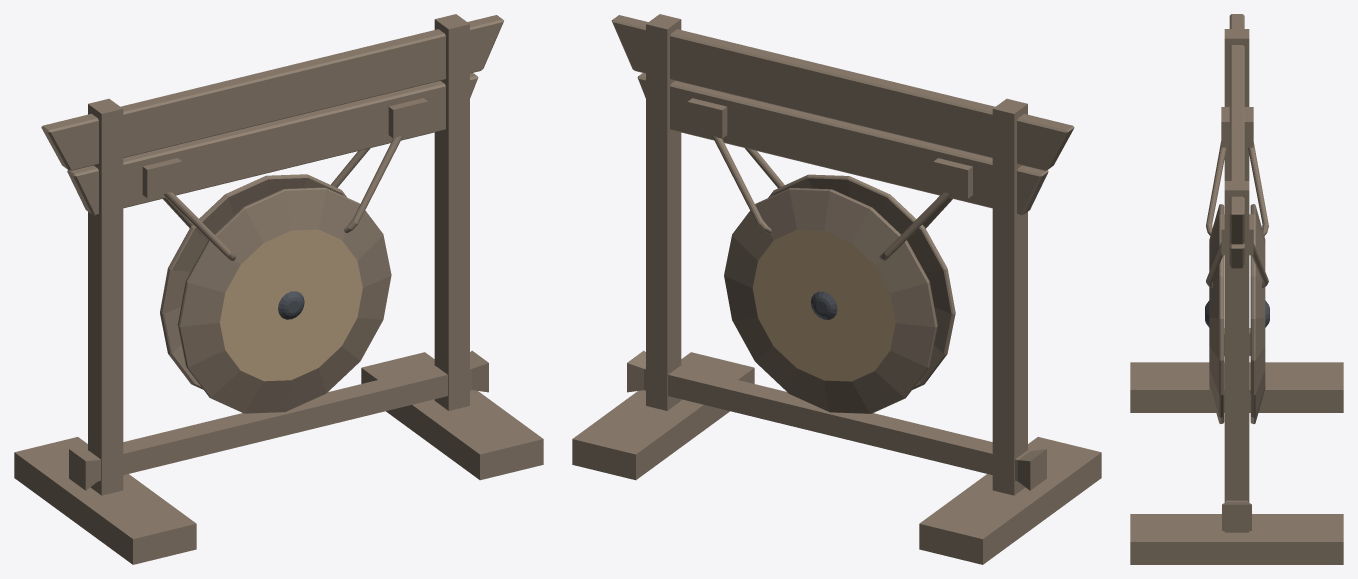
File: Gonge_2.fbx
3 views of the same model, side by side, from view 1: azimuth 30°, elevation 25°; view 2: azimuth 150°, elevation 25°; view 3: azimuth 270°, elevation 25° (orthographic). The views are drawn at different scales.
Parts seen in each view (by area): view 1: Gonge_2; view 2: Gonge_2; view 3: Gonge_2.
Boxes of the visible parts, box(x1,y1,x2,y2) form: Gonge_2: box(14, 14, 543, 564); Gonge_2: box(572, 14, 1101, 564); Gonge_2: box(1130, 14, 1343, 564).
Size of the model in its own units: 203 by 173 by 91.59.
